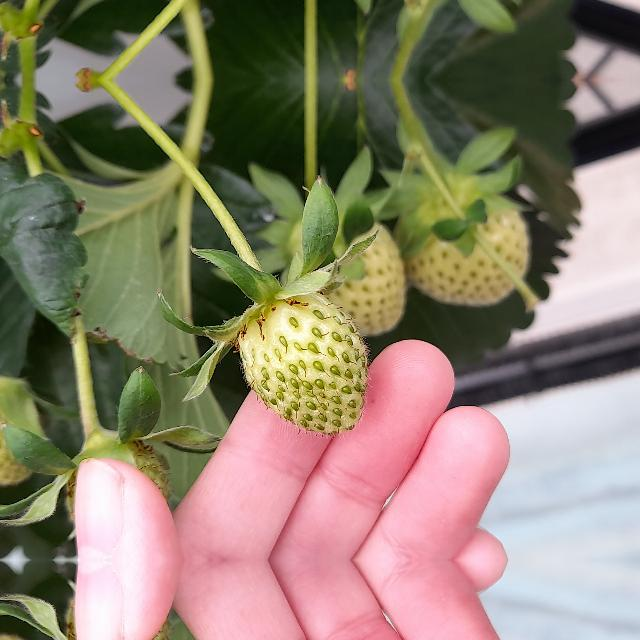Health_25: (238, 292, 368, 434)
